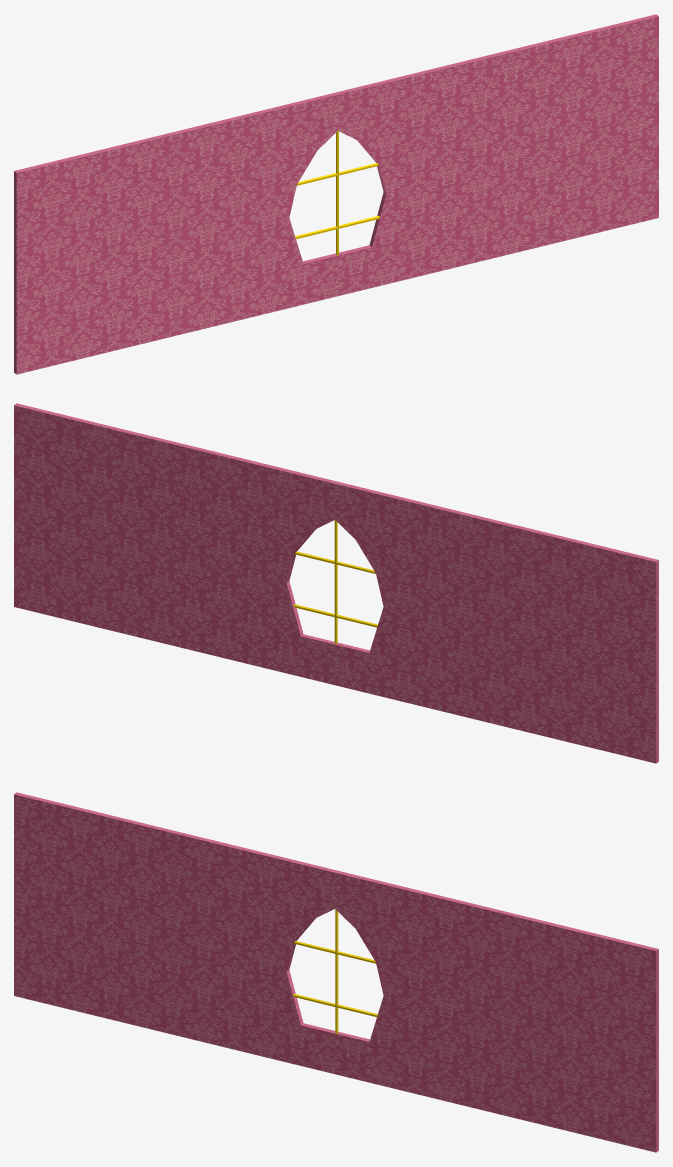
The model's file is paredCuarto.fbx.
3 renders of one model, top to bottom at view 1: azimuth 30°, elevation 25°; view 2: azimuth 150°, elevation 25°; view 3: azimuth 330°, elevation 25°, orthographic.
Parts seen in each view (by area): view 1: pCube3; view 2: pCube3; view 3: pCube3.
Part boxes in pixels (<box>): pCube3: <box>14,14,658,374</box>; pCube3: <box>14,403,658,763</box>; pCube3: <box>14,792,658,1152</box>.
Bounding box in the file's own units: 4 × 1.2 × 0.03.
